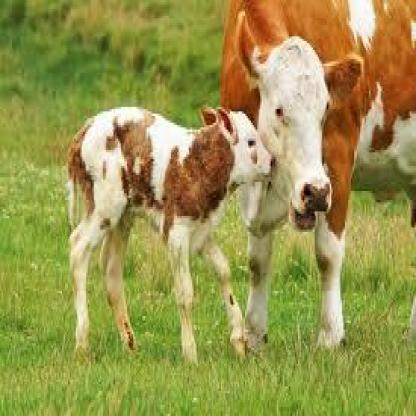cow: (219, 0, 416, 355), (66, 103, 276, 365)
